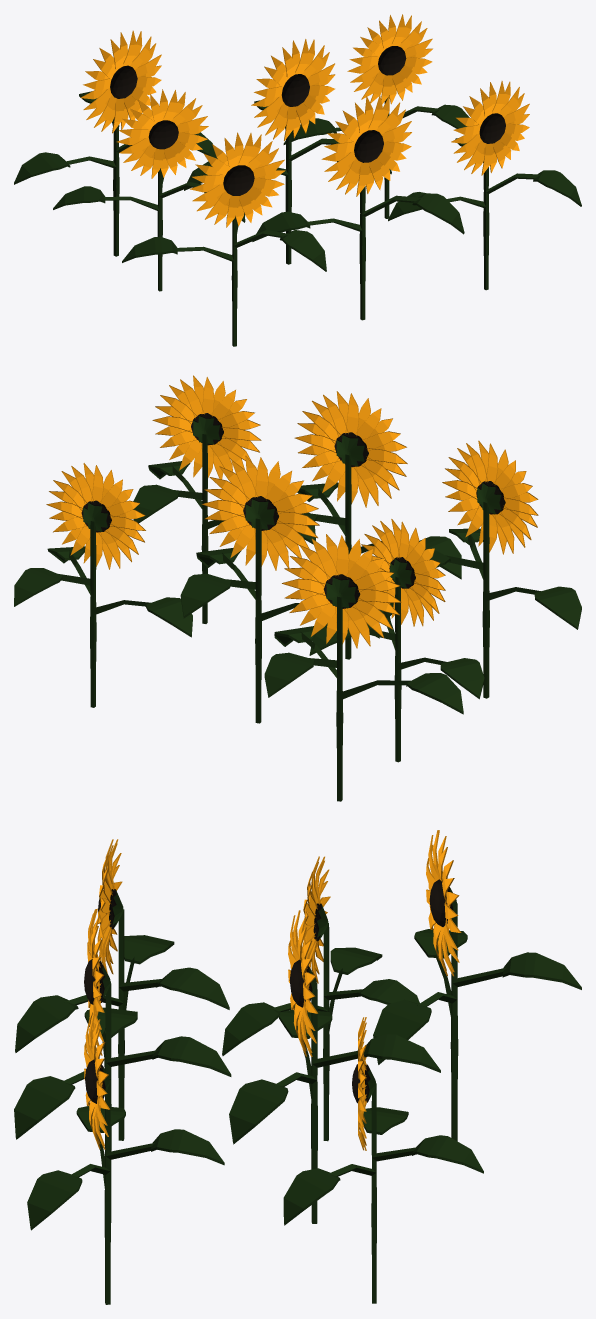
The model's file is 해바라기.fbx.
The picture shows the model from 3 angles, top to bottom: view 1: azimuth 30°, elevation 25°; view 2: azimuth 150°, elevation 25°; view 3: azimuth 270°, elevation 25°; orthographic projection. The views are drawn at different scales.
Visible parts, largest first — view 1: Object011; view 2: Object011; view 3: Object011.
Boxes of the visible parts, left/top/right/bottom form: Object011: left=14, top=14, right=581, bottom=346; Object011: left=14, top=375, right=581, bottom=801; Object011: left=14, top=830, right=581, bottom=1304.
Bounding box in the file's own units: 362 × 188 × 314.
